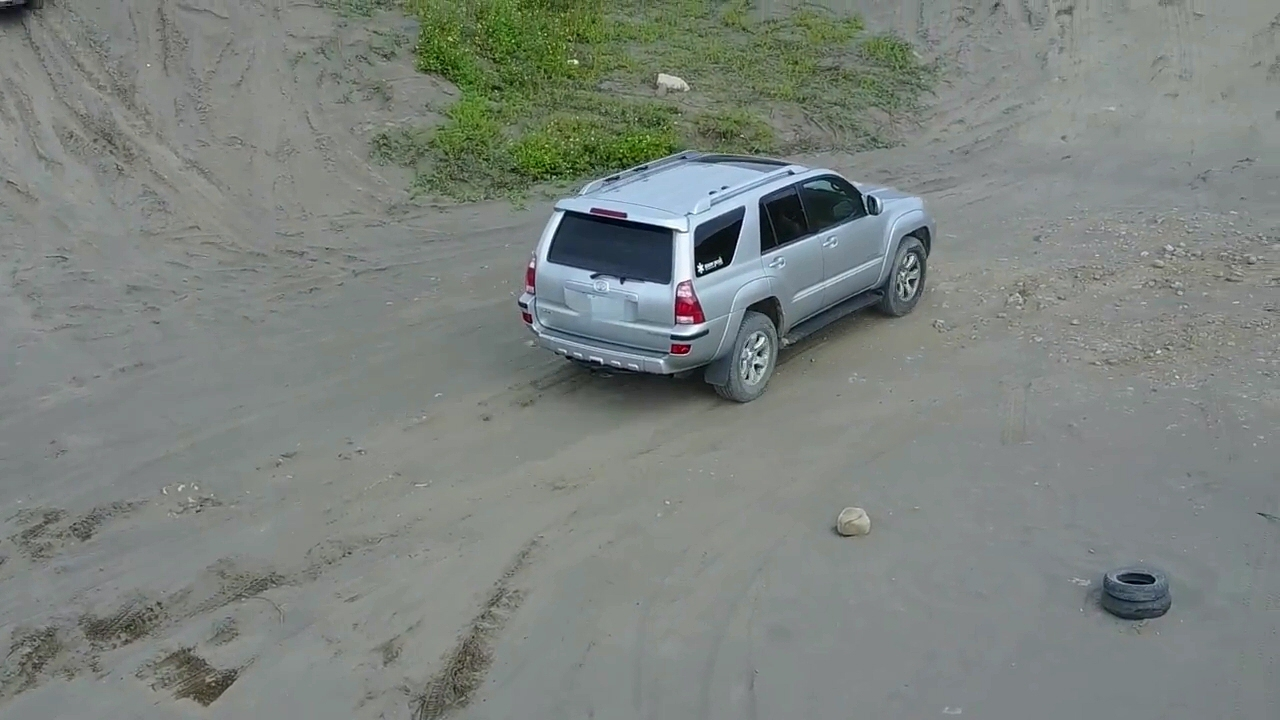araba: (511, 145, 940, 402)
